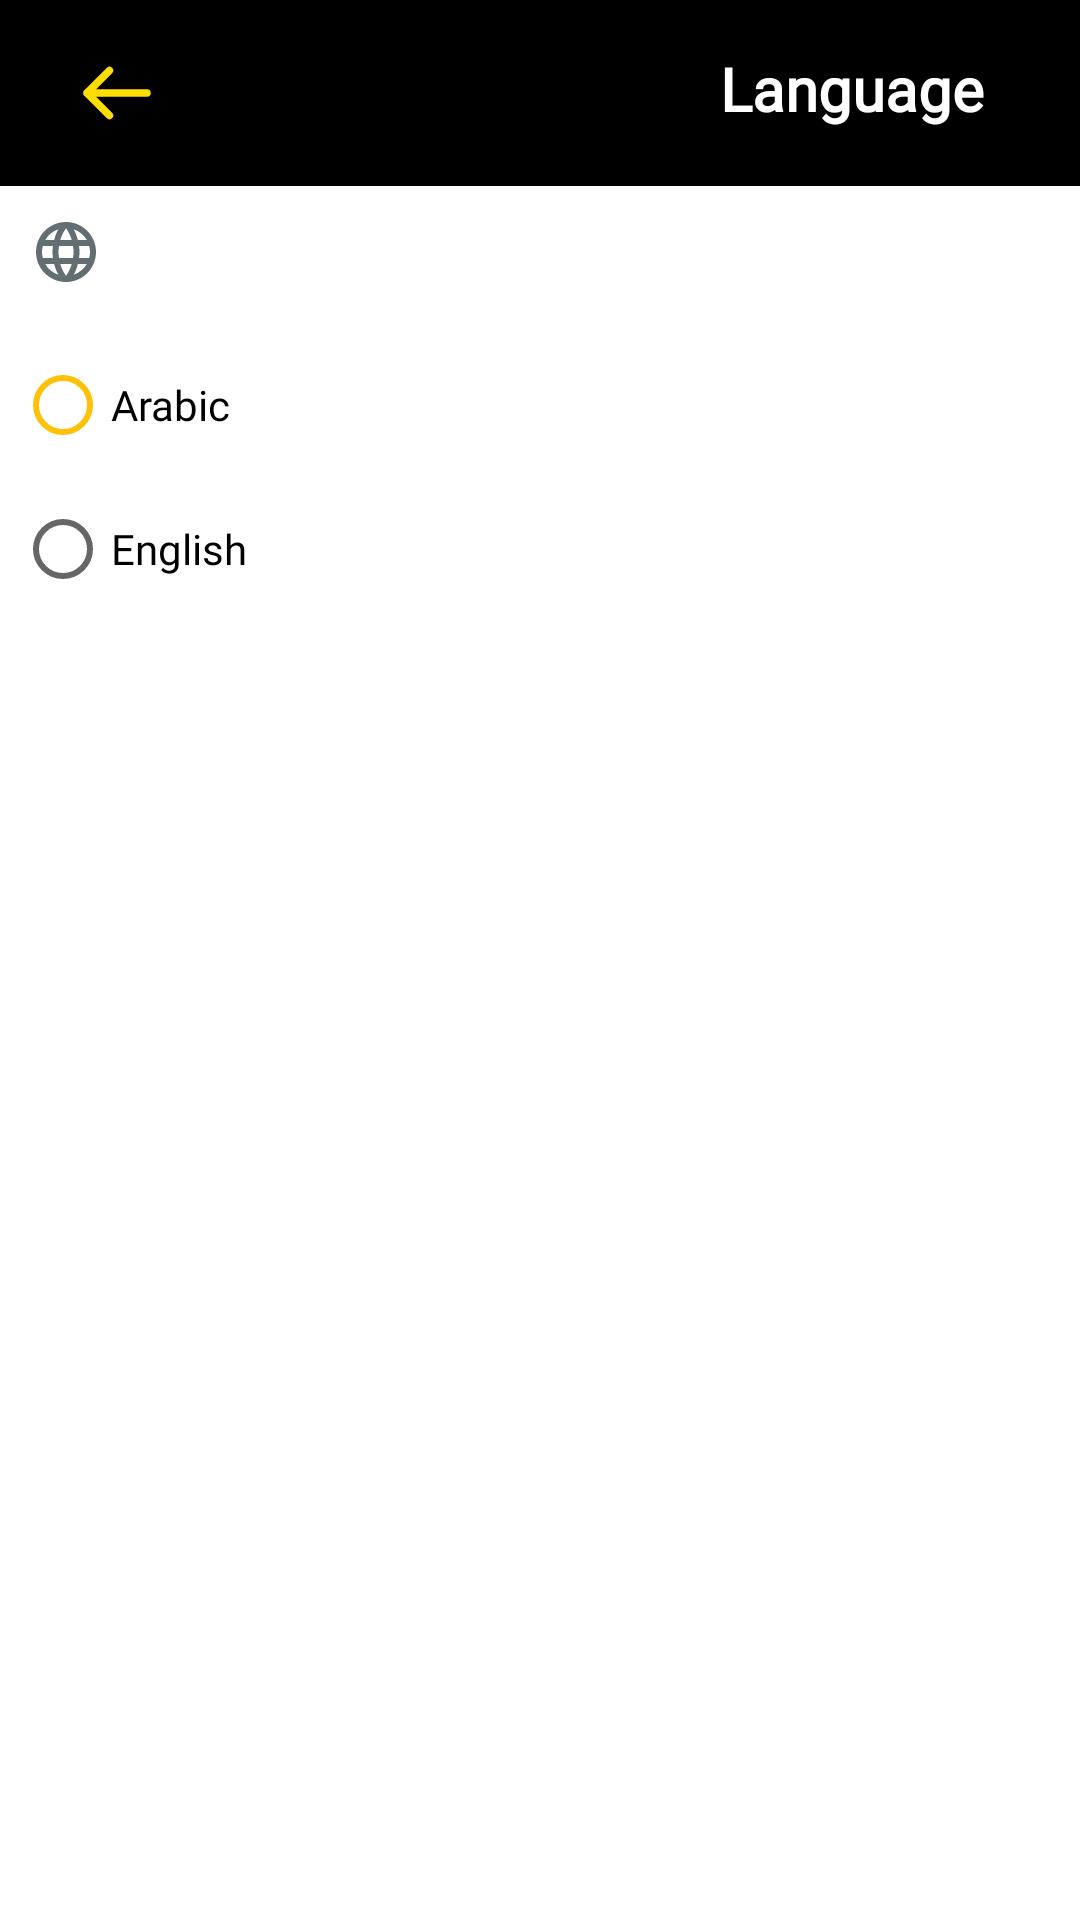

Where to tap for icons on this 1080 × 1920 app screen, as point (x, y):
arrow exit: point (117, 93)
